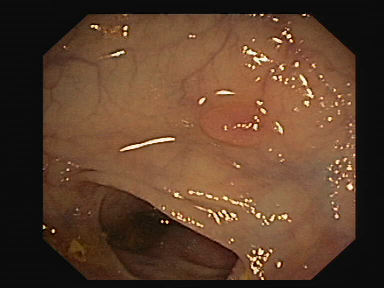polyp: (193, 81, 293, 154)
